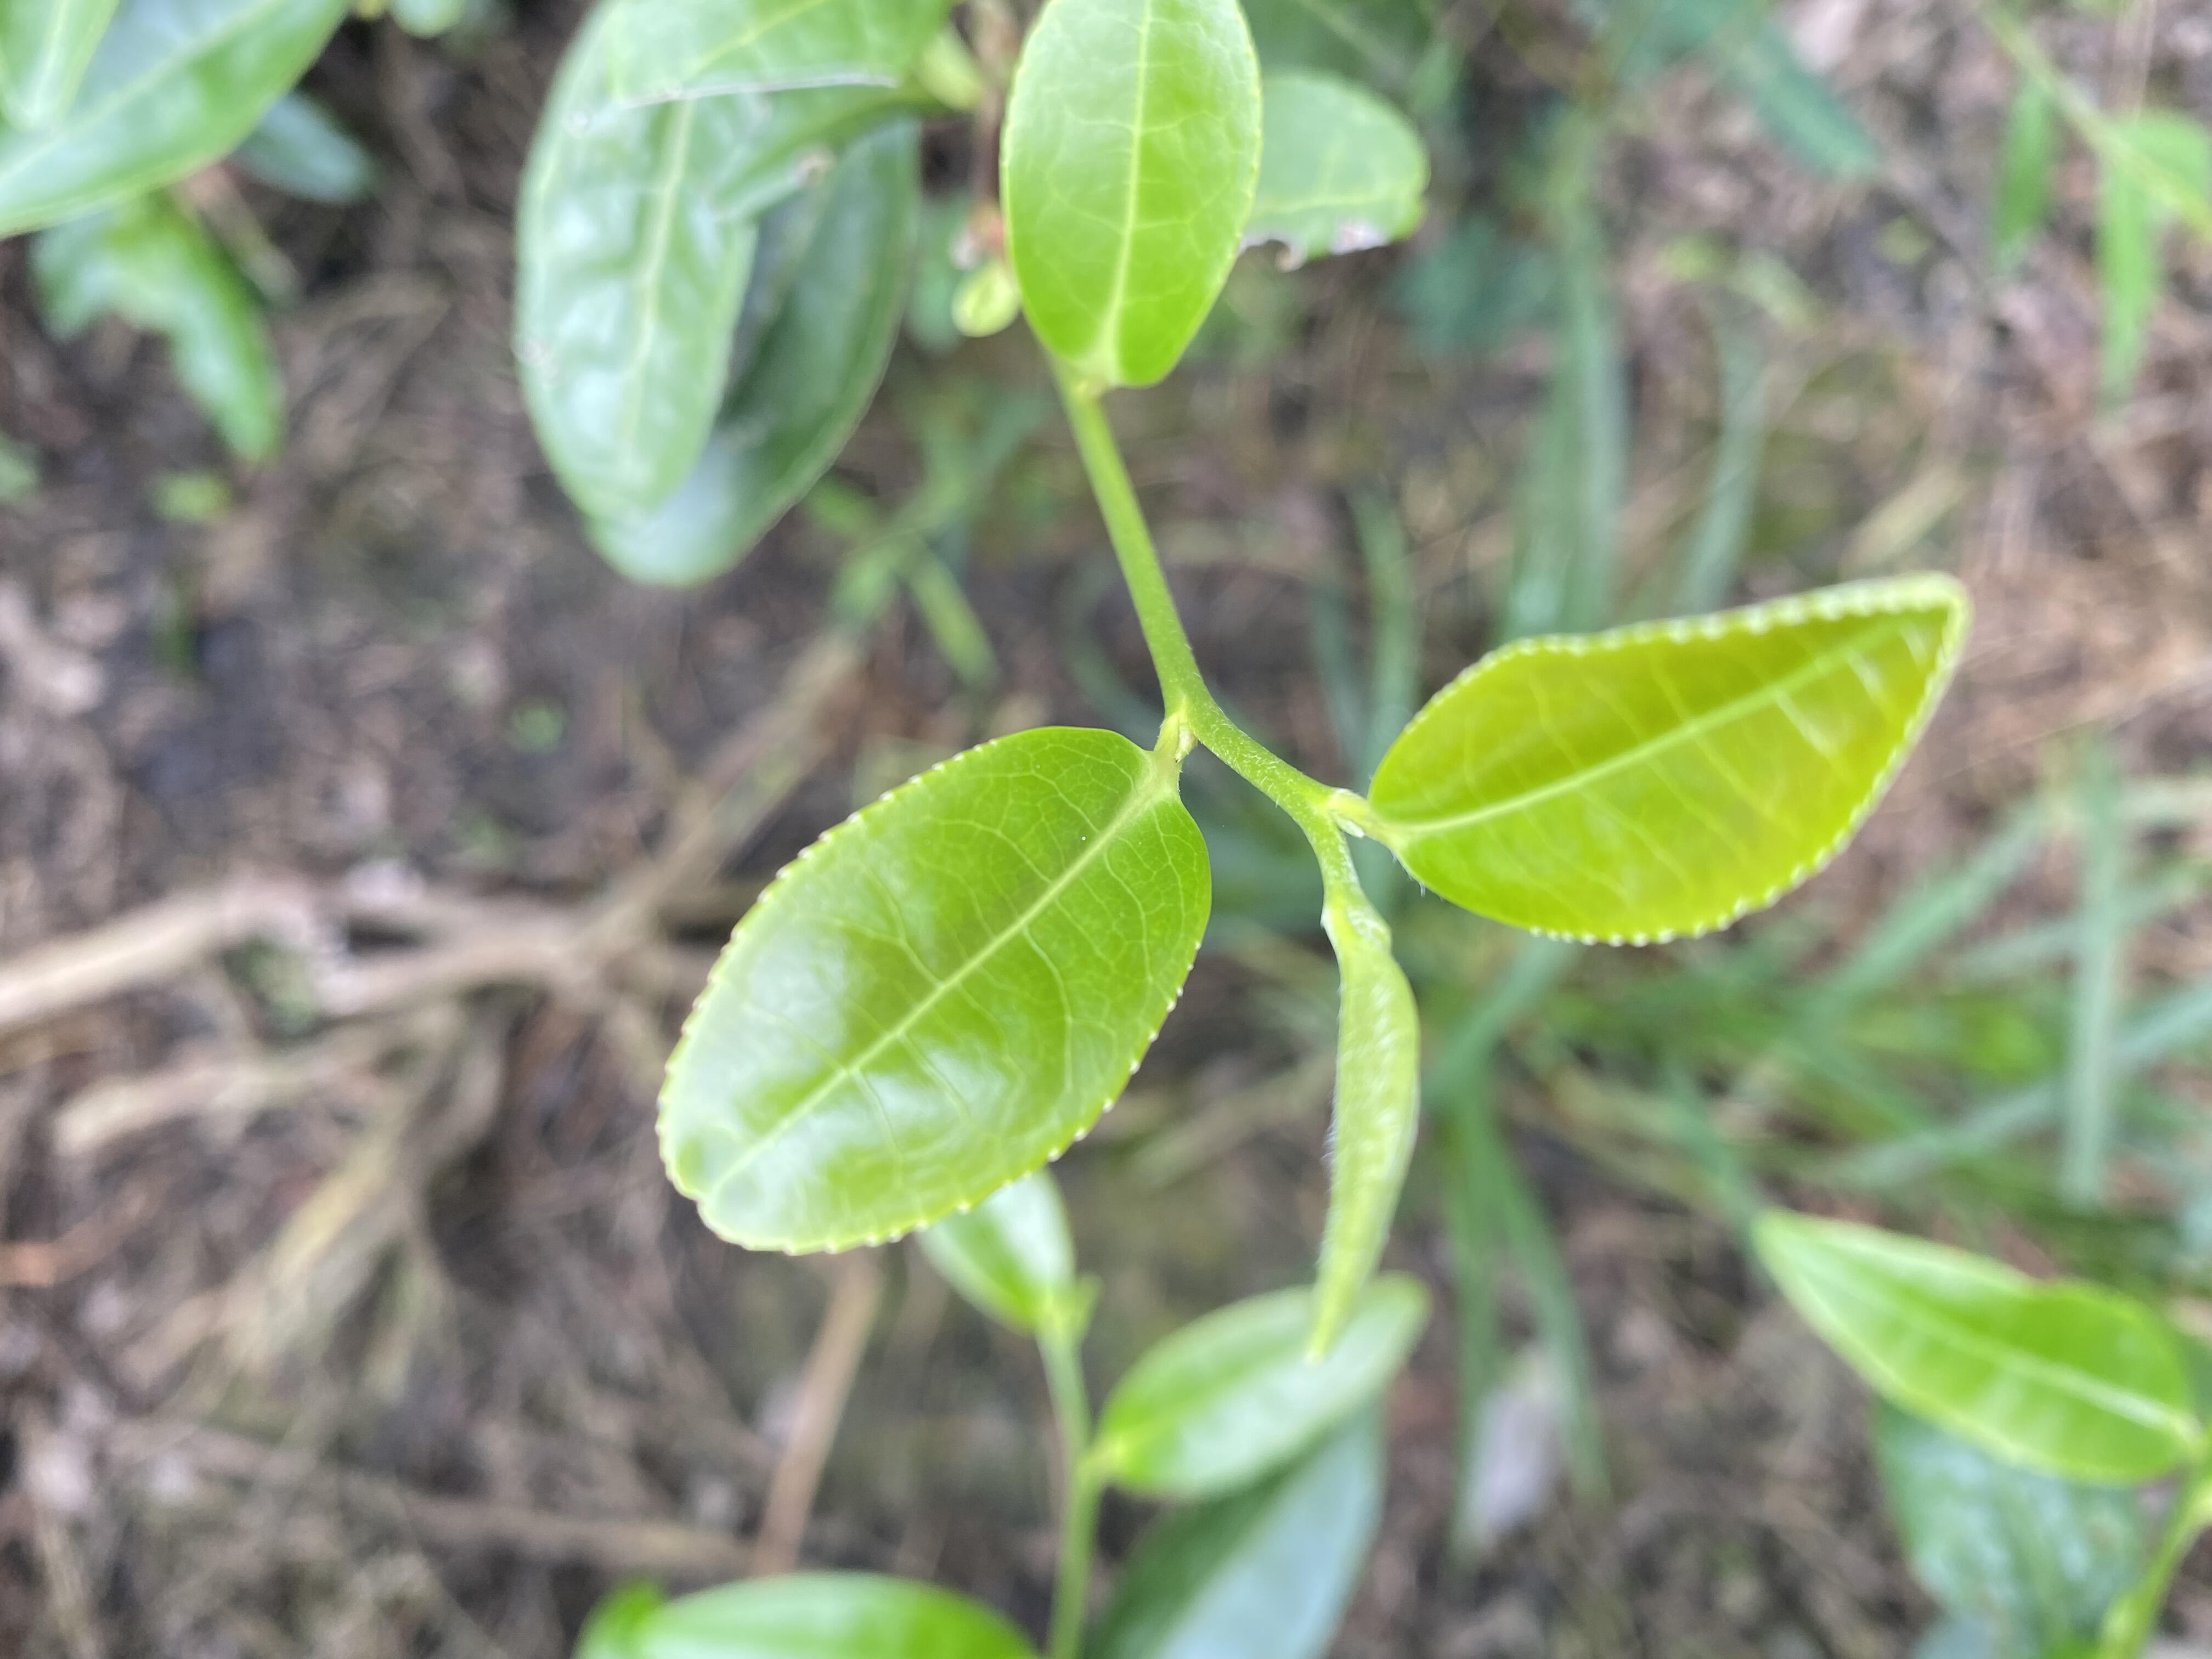healthy: (651, 723, 1219, 1258), (1371, 568, 1968, 953), (998, 2, 1261, 392)
